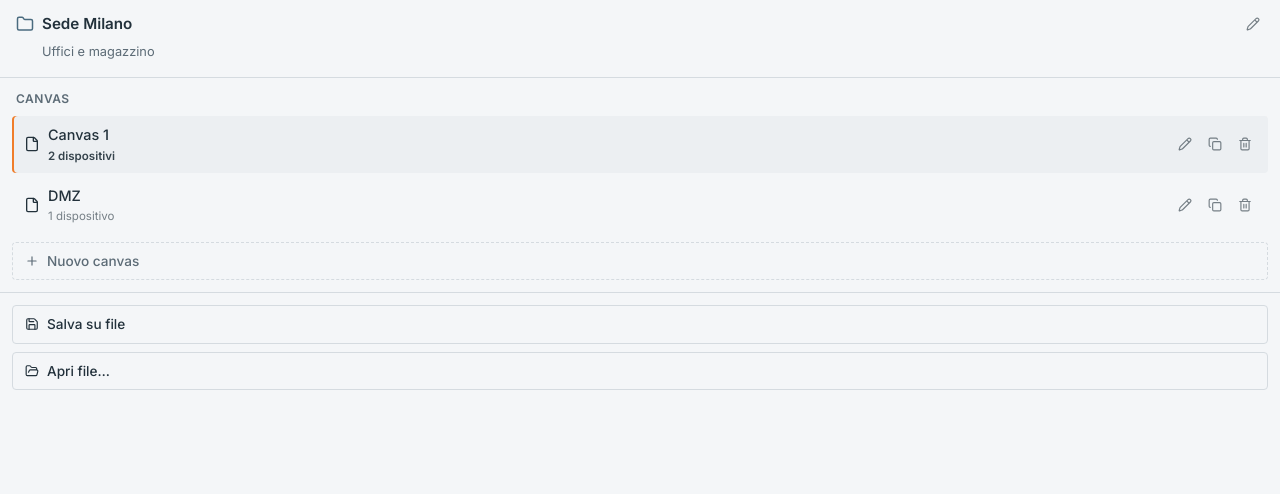
Test: ExplorerPanel › canvases › duplicates a canvas: the copy comes right after it, named «(copia)», with its devices, without switching
This screenshot has width=1280, height=494.
Click the button named "Duplica il canvas Canvas 1": (1215, 144) [1204,133,1226,155]
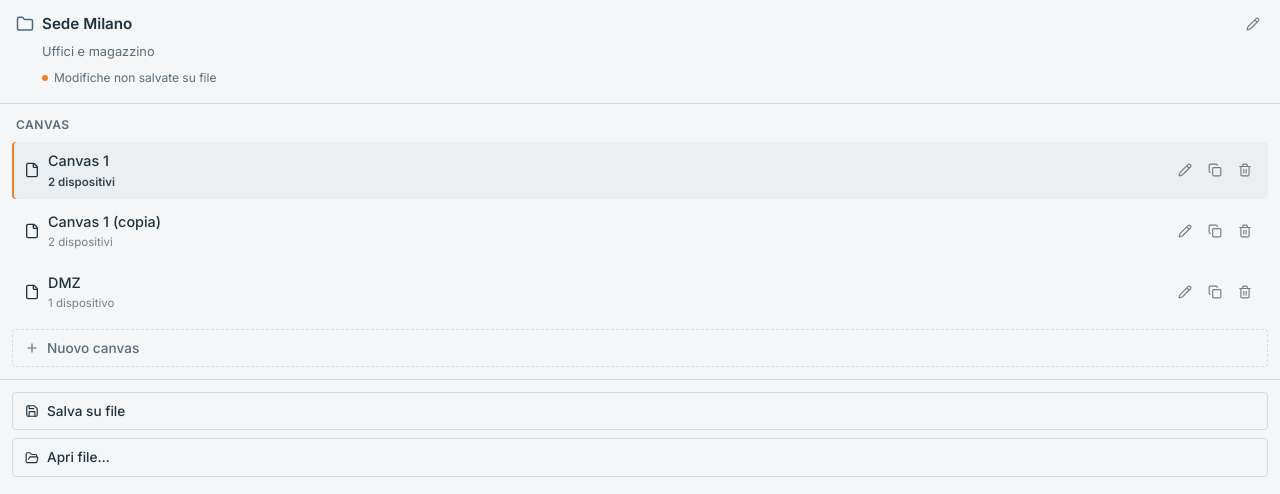
Expected: the text "2 dispositivi" below "Canvas 1 (copia)" is shown, [48,236,113,250]
